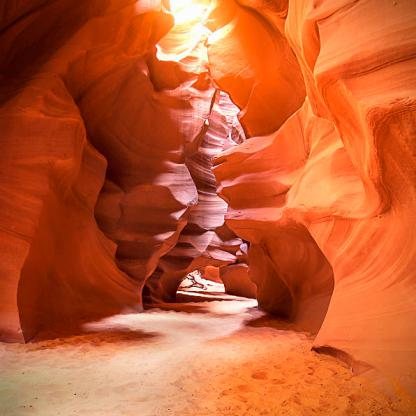Sedimentary_Sandstone: (1, 184, 210, 314), (214, 119, 291, 324), (1, 0, 172, 86), (76, 71, 209, 175)
